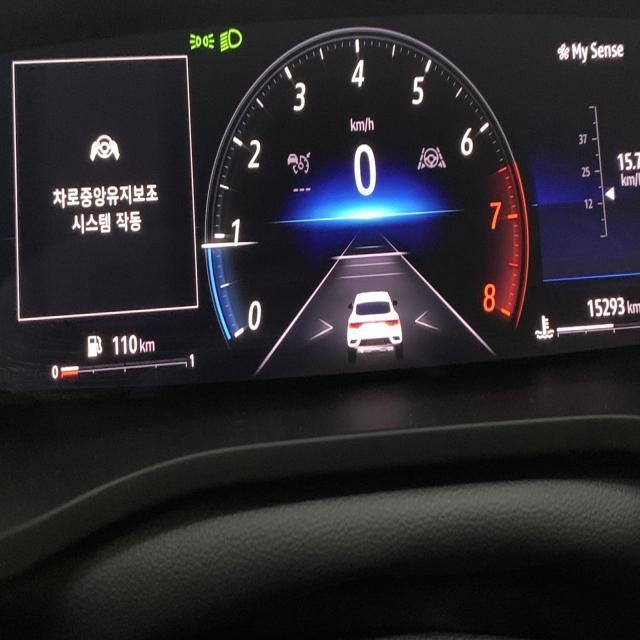Low beam: (218, 26, 242, 52)
SideLamp: (188, 30, 214, 50)
